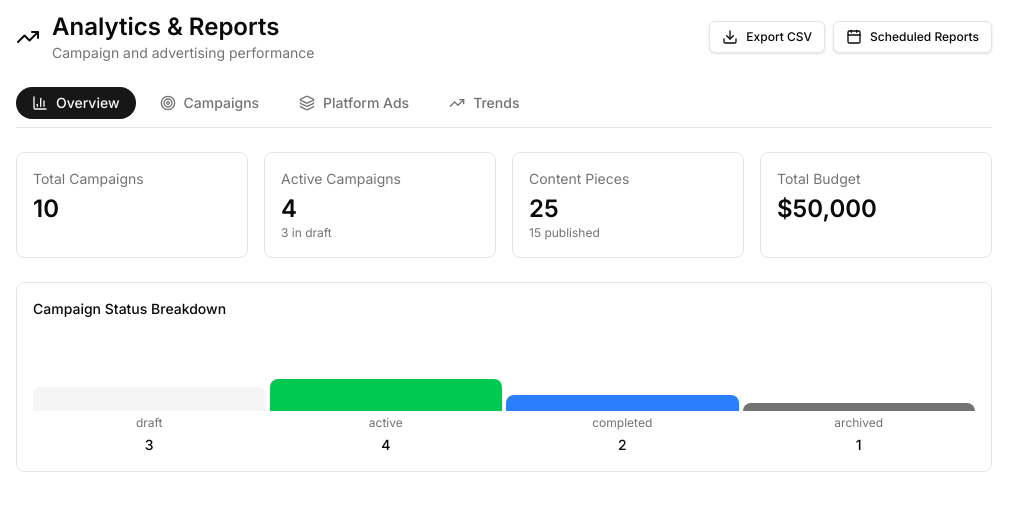
AnalyticsPage › switches to trends tab
Step 1. Click the button "Trends" → (484,103), box [433,87,535,119]
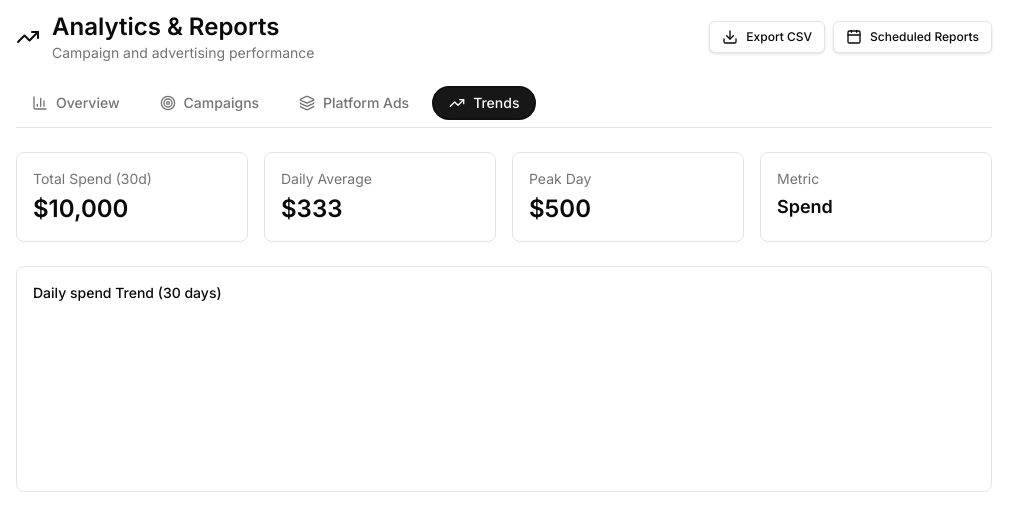
Check: the text "spend" is shown, box [777,196,833,217]
Check: the text "$10,000" is shown, box [33,194,128,223]
